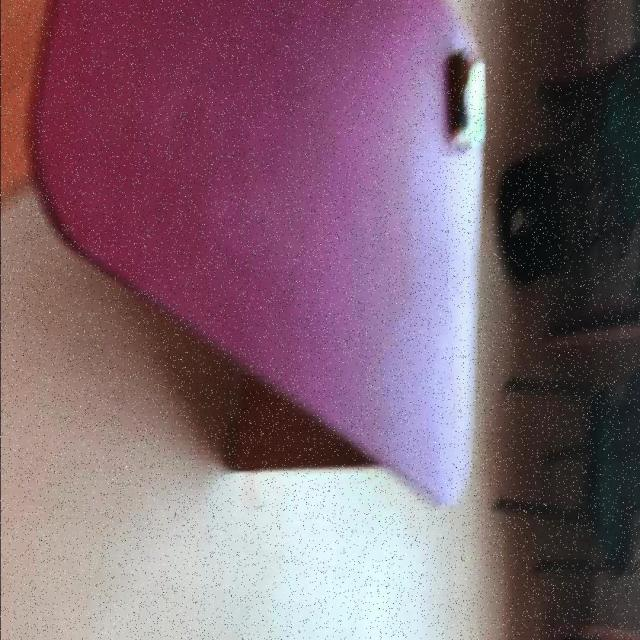Sponge: (33, 0, 488, 507), (450, 50, 487, 150)
